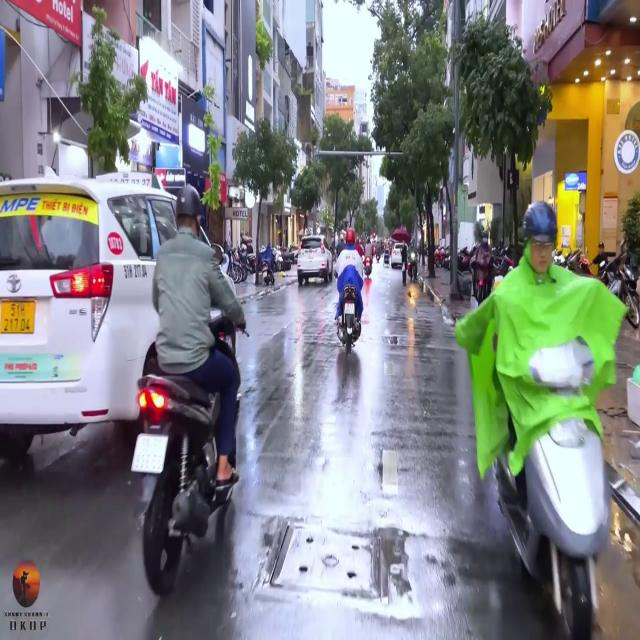bien_trang: (131, 427, 165, 477)
bien_vang: (0, 300, 36, 334)
